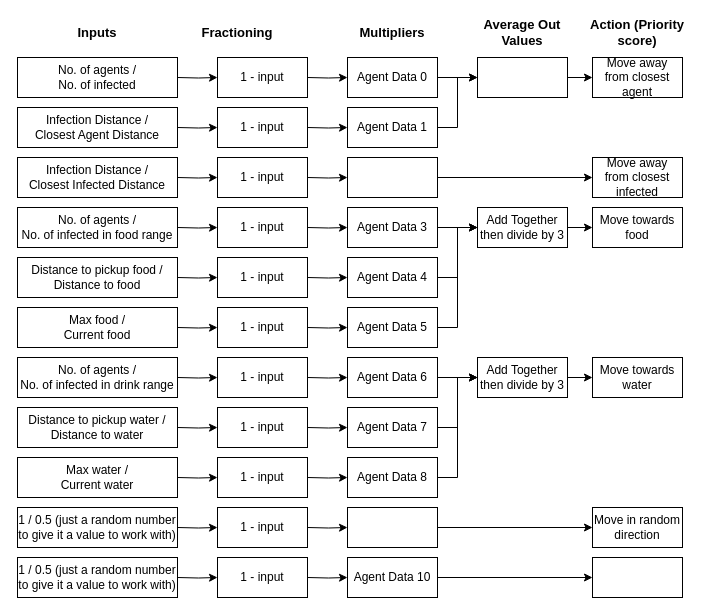
Some shapes in this 705 by 615 pixel diagram are drawn without their labels. Here are the shapes that lost their labels. From the top down, the box of each, then its label:
(476, 56, 568, 98): Add Together then divide by 2
(346, 156, 438, 198): Agent Data 2
(346, 506, 438, 548): Agent Data 9
(592, 556, 682, 598): Stop moving
